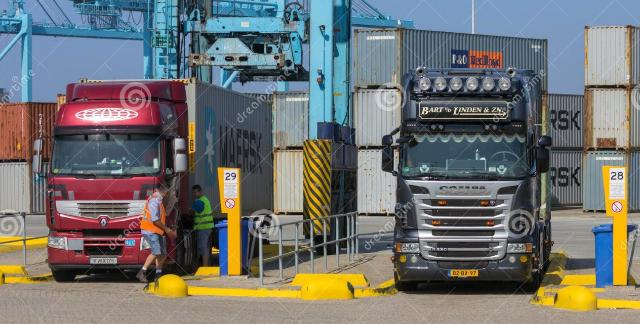truck: (46, 76, 277, 282), (380, 70, 553, 292)
